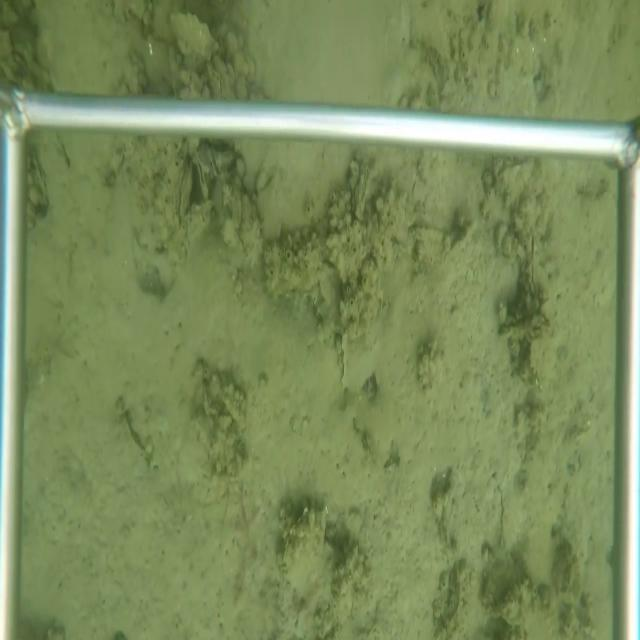Oyster-Closed: (527, 229, 547, 305), (175, 159, 192, 226), (192, 150, 211, 202), (339, 331, 350, 398)
Oyster-Indeterminate: (283, 501, 347, 613), (167, 12, 221, 73)
Oyster-Open: (204, 145, 225, 183)
